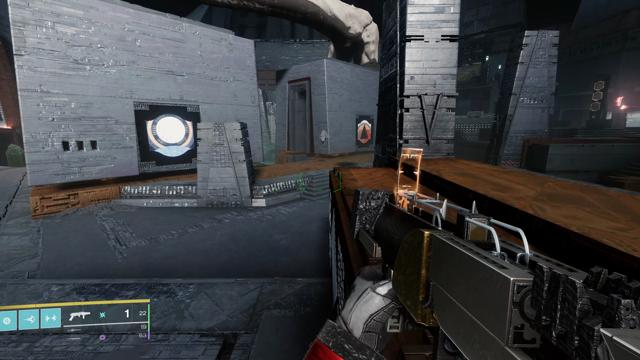pyramid: (357, 120, 371, 143)
traveler: (145, 114, 195, 157)
